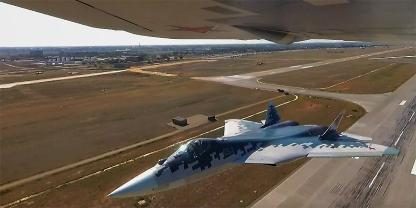SR71: (105, 101, 398, 197)
